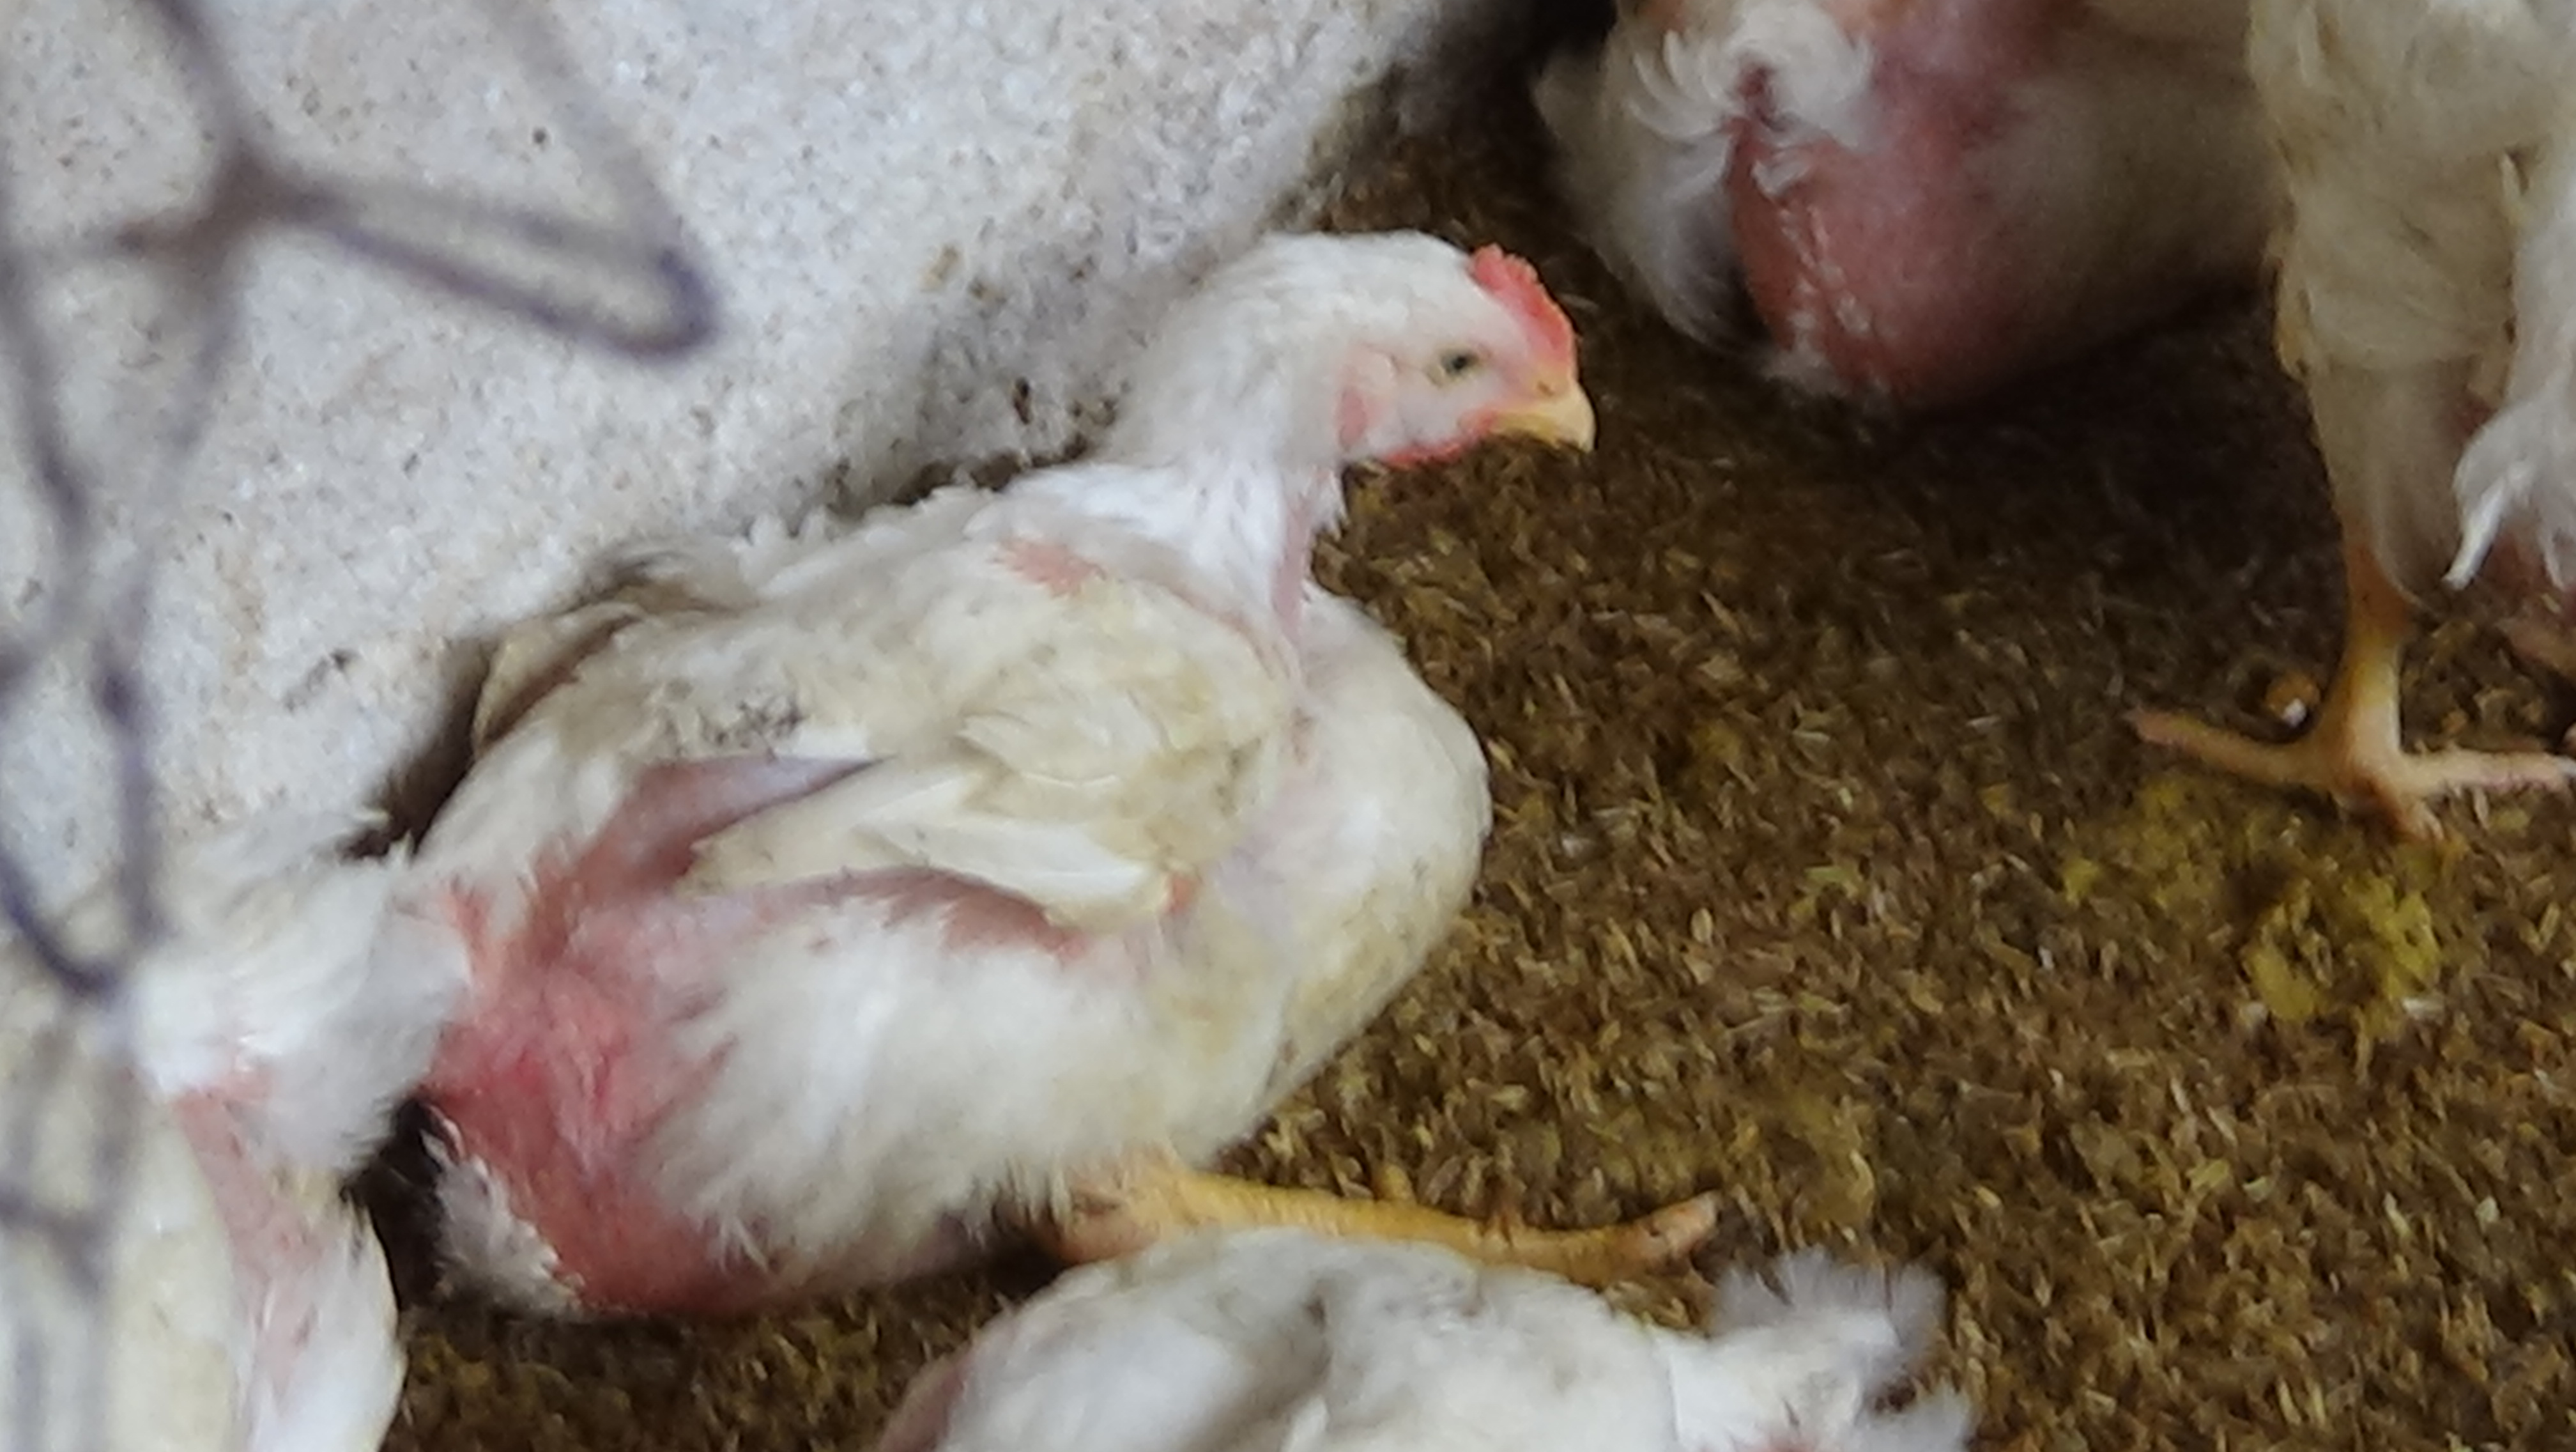Pollos: (287, 179, 1640, 1300), (1550, 0, 2567, 799)
